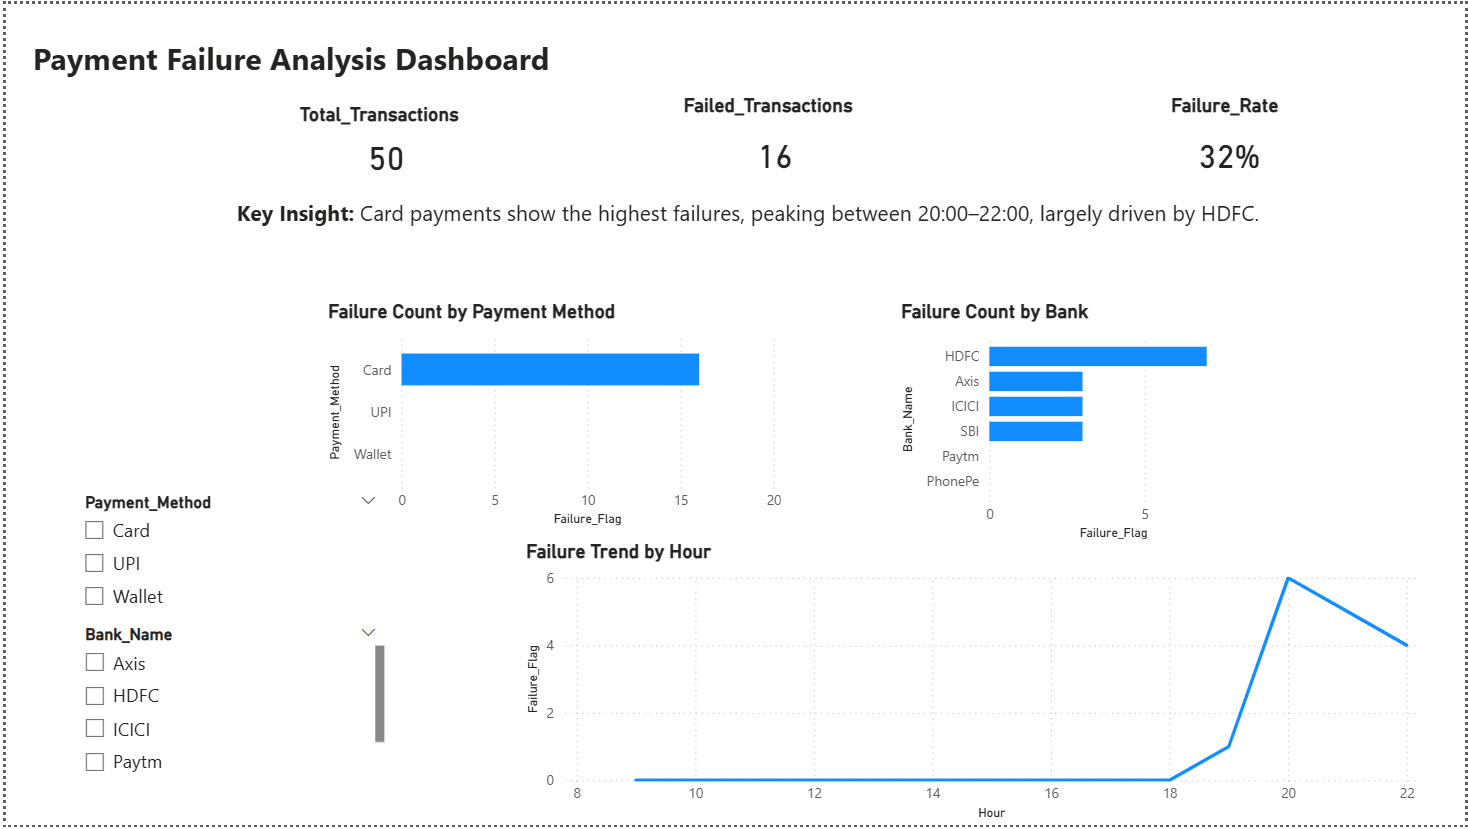

What the dashboard file says about the page in this screenshot:
{"tool":"powerbi","page":{"name":"Dashboard","canvas":[1280,720],"ordinal":0},"visuals":[{"type":"card","title":"Total_Transactions","fields":{"Values":["Raw_Data.Total_Transactions"]},"box":[252.9,86.3,160.5,72.7],"z":0},{"type":"card","title":"Failed_Transactions","fields":{"Values":["Raw_Data.Failed_Transactions"]},"box":[589,78.7,169.6,86.3],"z":1000},{"type":"card","title":"Failure_Rate","fields":{"Values":["Raw_Data.Failure_Rate"]},"box":[1017.5,78.7,112.1,86.3],"z":2000},{"type":"clusteredBarChart","title":"Failure Count by Payment Method","fields":{"Category":["Raw_Data.Payment_Method"],"Y":["Sum(Raw_Data.Failure_Flag)"]},"box":[277.1,258.9,407.3,202.9],"z":3000},{"type":"clusteredBarChart","title":"Failure Count by Bank","fields":{"Category":["Raw_Data.Bank_Name"],"Y":["Sum(Raw_Data.Failure_Flag)"]},"box":[779.8,258.9,308.9,215],"z":4000},{"type":"lineChart","title":"Failure Trend by Hour","fields":{"Category":["Raw_Data.Hour"],"Y":["Sum(Raw_Data.Failure_Flag)"]},"box":[451.2,469.4,791.9,249.8],"z":5000},{"type":"slicer","fields":{"Values":["Raw_Data.Payment_Method"]},"box":[56,424,280.1,163.5],"z":6000},{"type":"slicer","fields":{"Values":["Raw_Data.Bank_Name"]},"box":[56,539.1,280.1,149.9],"z":7000},{"type":"textbox","box":[18.2,24.2,516.3,62.1],"z":7002},{"type":"textbox","box":[196.8,146.9,1061.5,54.5],"z":7003}]}

Visuals, with their boxes in screenshot pixels (x1, y1, x2, y2), scaled from the page's 1280x720 canvas onto the 1468x829 screenshot:
"Total_Transactions" card: x1=290, y1=99, x2=474, y2=183
"Failed_Transactions" card: x1=676, y1=91, x2=870, y2=190
"Failure_Rate" card: x1=1167, y1=91, x2=1296, y2=190
"Failure Count by Payment Method" clusteredBarChart: x1=318, y1=298, x2=785, y2=532
"Failure Count by Bank" clusteredBarChart: x1=894, y1=298, x2=1249, y2=546
"Failure Trend by Hour" lineChart: x1=517, y1=540, x2=1426, y2=828
slicer - Raw_Data.Payment_Method: x1=64, y1=488, x2=385, y2=676
slicer - Raw_Data.Bank_Name: x1=64, y1=621, x2=385, y2=793
textbox: x1=21, y1=28, x2=613, y2=99
textbox: x1=226, y1=169, x2=1443, y2=232
